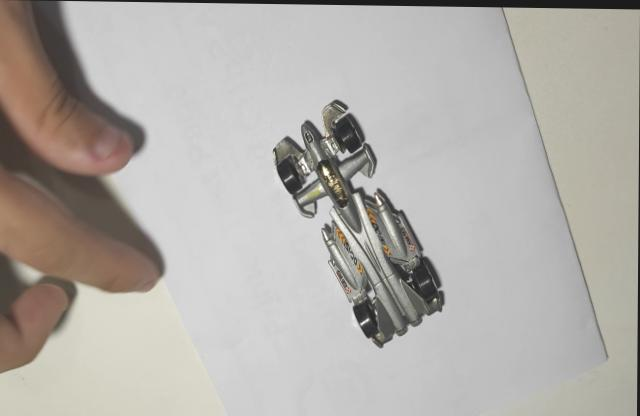05_DC121: (272, 98, 446, 345)
